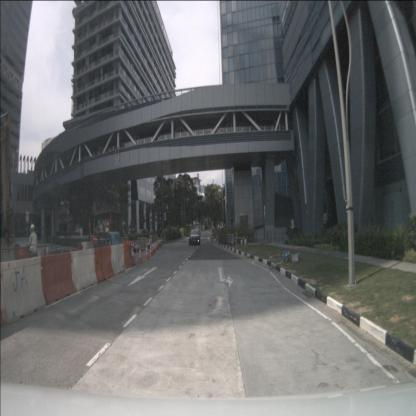barrier: (0, 256, 46, 325), (41, 252, 77, 306), (71, 248, 98, 293), (94, 246, 115, 283), (110, 244, 126, 275), (0, 248, 17, 276), (16, 248, 30, 275), (124, 242, 136, 270), (82, 241, 96, 259), (77, 242, 90, 258)
cone: (144, 245, 149, 260), (138, 248, 142, 263), (151, 243, 154, 256), (149, 245, 152, 257)
